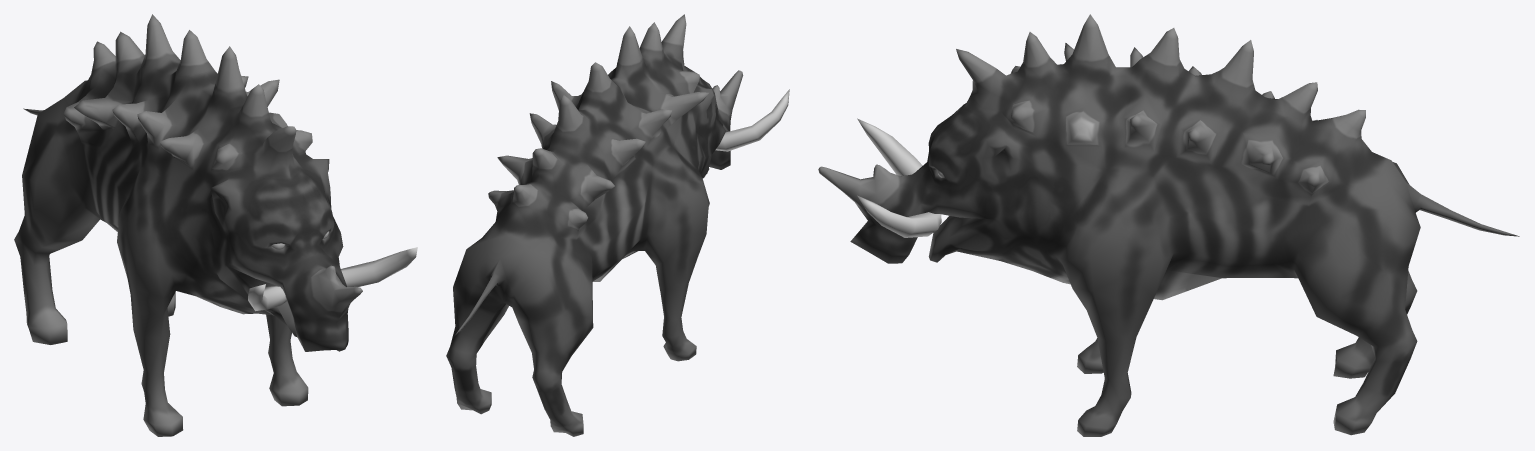
Rendered from boar2_charge.fbx.
3 renders of one model, left to right at view 1: azimuth 30°, elevation 25°; view 2: azimuth 150°, elevation 25°; view 3: azimuth 270°, elevation 25°, orthographic. The views are drawn at different scales.
Visible parts, largest first — view 1: boar_charge_body; view 2: boar_charge_body; view 3: boar_charge_body.
Part boxes in pixels (left/top/right/bottom): boar_charge_body: left=14, top=14, right=417, bottom=436; boar_charge_body: left=446, top=14, right=789, bottom=436; boar_charge_body: left=818, top=14, right=1519, bottom=436.
Size of the model in its own units: 50.89 by 96.79 by 160.
